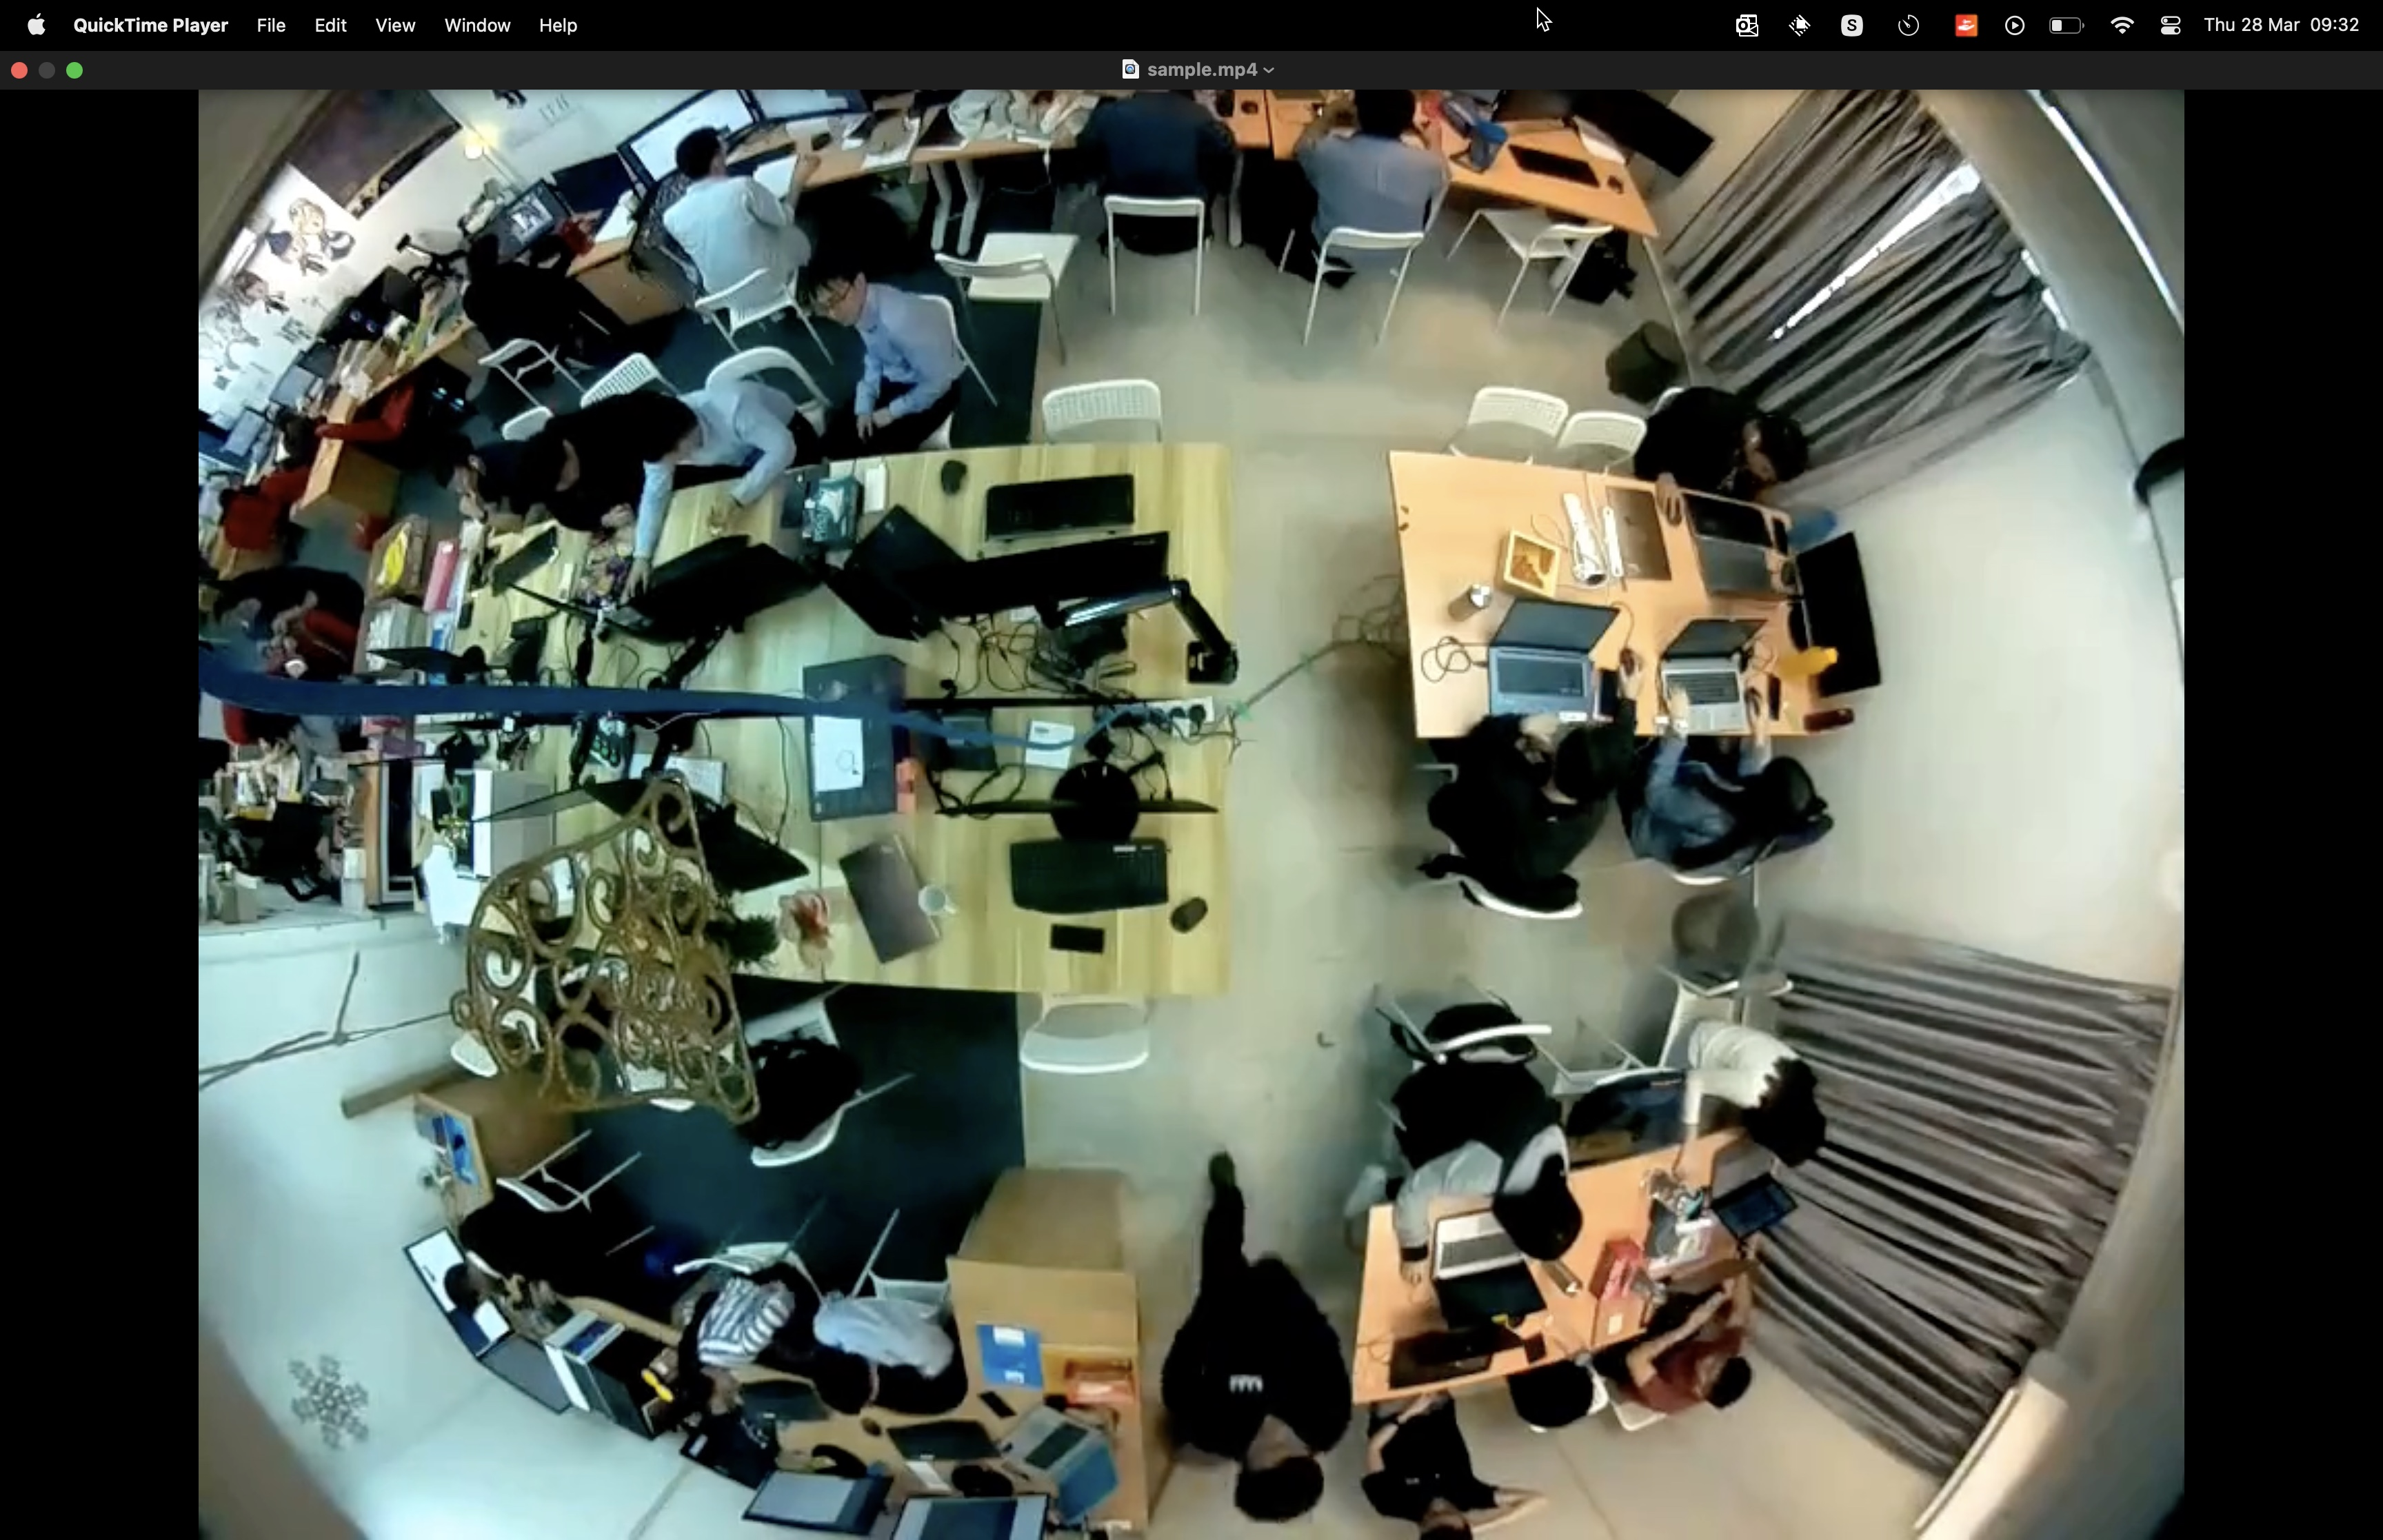Staff: (1157, 1151, 1362, 1523)
